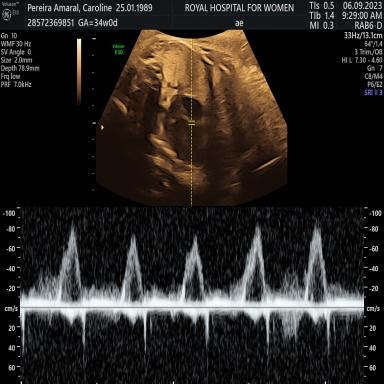Ultrasound-Waves: (27, 207, 360, 383)
